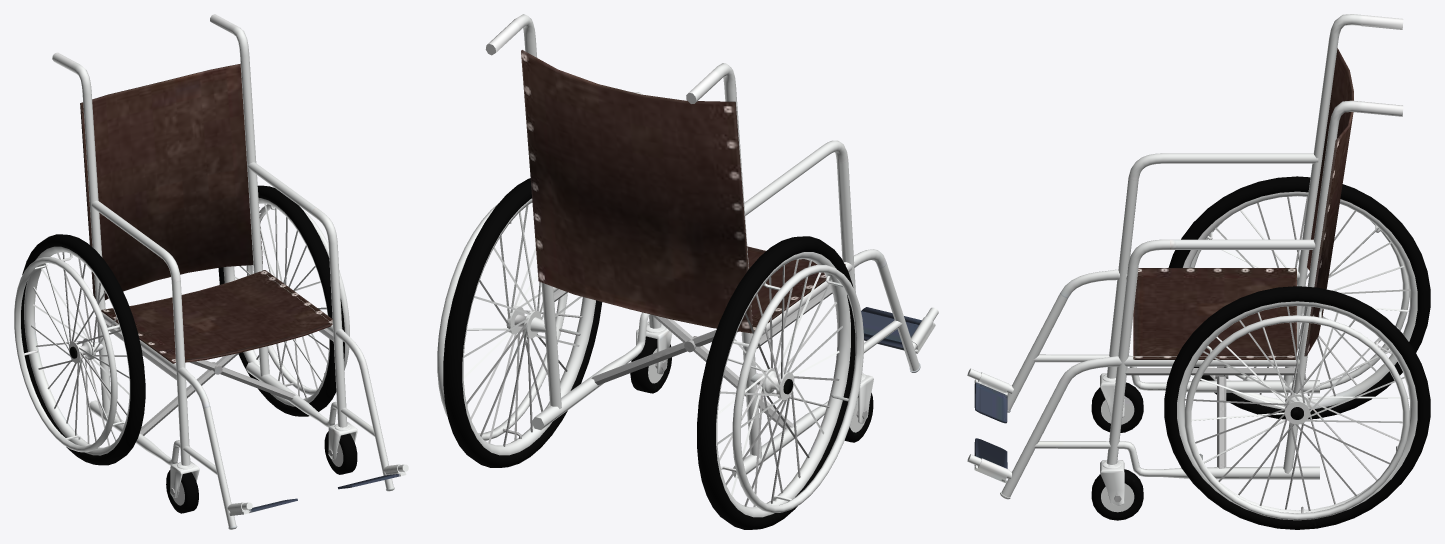
File: o3_sedia_a_rotelle.glb
3 views of the same model, side by side, from view 1: azimuth 30°, elevation 25°; view 2: azimuth 150°, elevation 25°; view 3: azimuth 270°, elevation 25° (orthographic). The views are drawn at different scales.
Visible parts, largest first — view 1: sb_modello; view 2: sb_modello; view 3: sb_modello.
Part boxes in pixels (x1,y1,x2,y2): sb_modello: (14,14,408,529); sb_modello: (437,14,938,529); sb_modello: (967,14,1430,529).
Bounding box in the file's own units: 0.6084 × 0.9 × 0.9072.
1 material, 1 textured.
